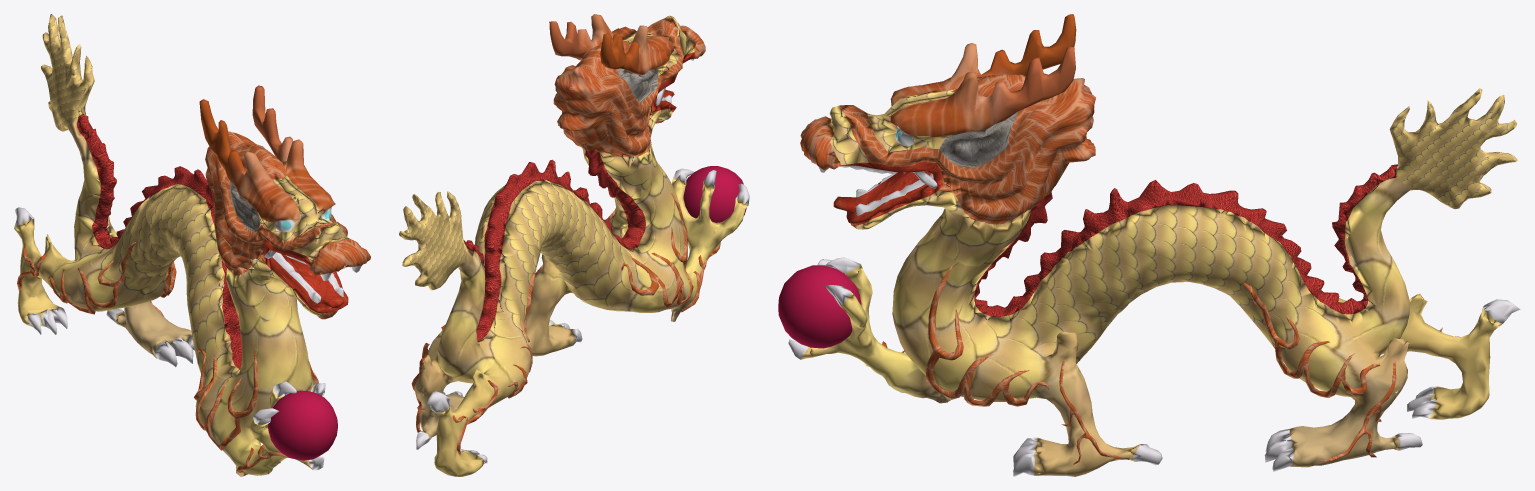
3 renders of one model, left to right at view 1: azimuth 30°, elevation 25°; view 2: azimuth 150°, elevation 25°; view 3: azimuth 270°, elevation 25°, orthographic. The views are drawn at different scales.
Parts seen in each view (by area): view 1: Dragon; view 2: Dragon; view 3: Dragon.
Boxes of the visible parts, left/top/right/bottom form: Dragon: left=14, top=14, right=370, bottom=476; Dragon: left=399, top=14, right=749, bottom=476; Dragon: left=778, top=14, right=1520, bottom=476.
Bounding box in the file's own units: 0.118 × 0.2841 × 0.4579.
9 materials, 5 textured.
